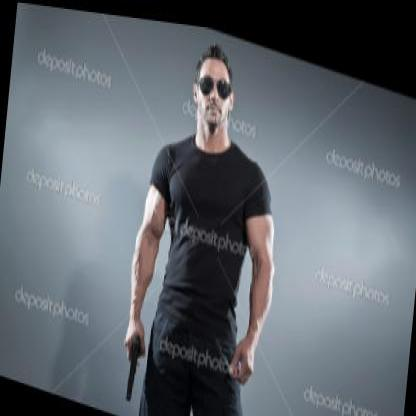pistol: (113, 308, 148, 404)
